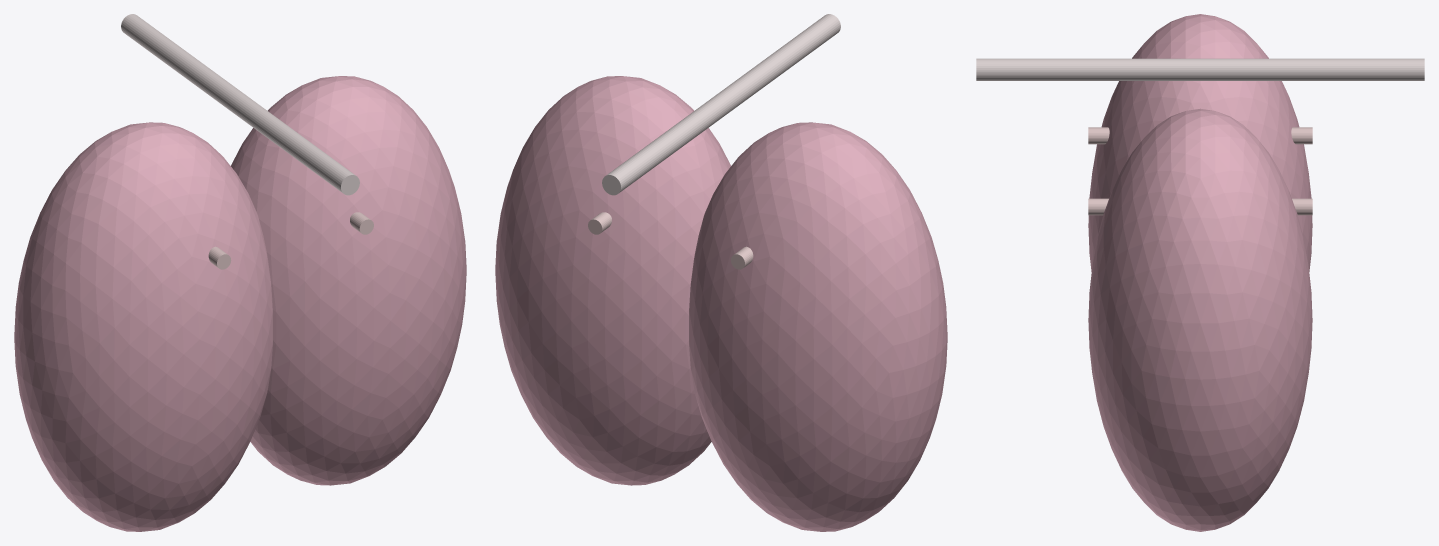
File: respiratory_system.glb
3 renders of one model, left to right at view 1: azimuth 30°, elevation 25°; view 2: azimuth 150°, elevation 25°; view 3: azimuth 270°, elevation 25°, orthographic.
Parts seen in each view (by area): view 1: world; view 2: world; view 3: world.
Part boxes in pixels (x1,y1,x2,y2): world: (14,14,466,531); world: (495,14,947,531); world: (976,14,1424,531).
Bounding box in the file's own units: 9 × 8.2 × 8.
